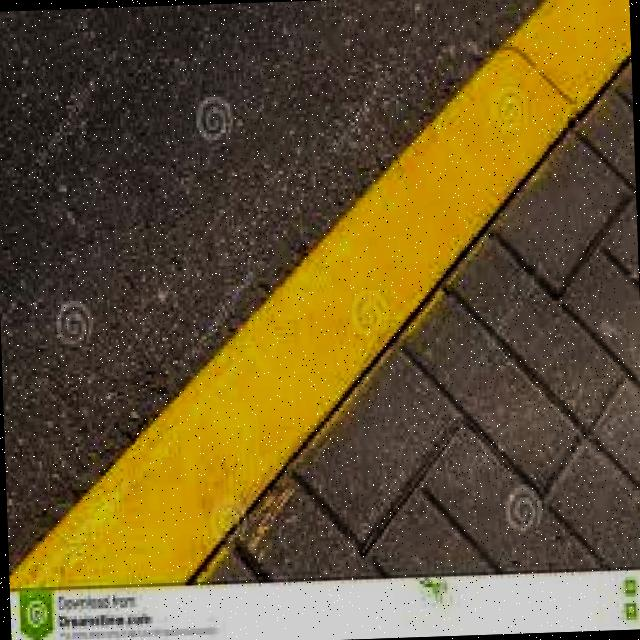curb: (17, 1, 632, 587)
